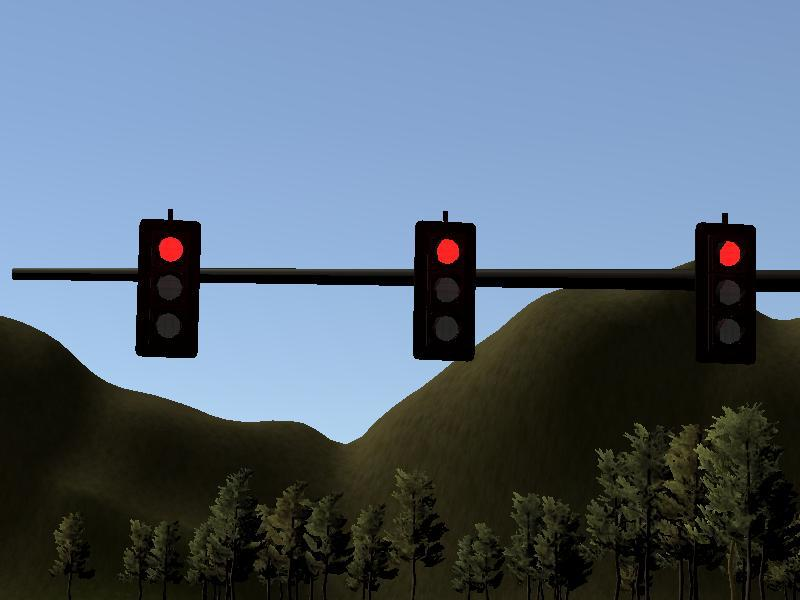Red: (141, 221, 199, 359), (697, 224, 755, 361), (416, 224, 473, 360)
